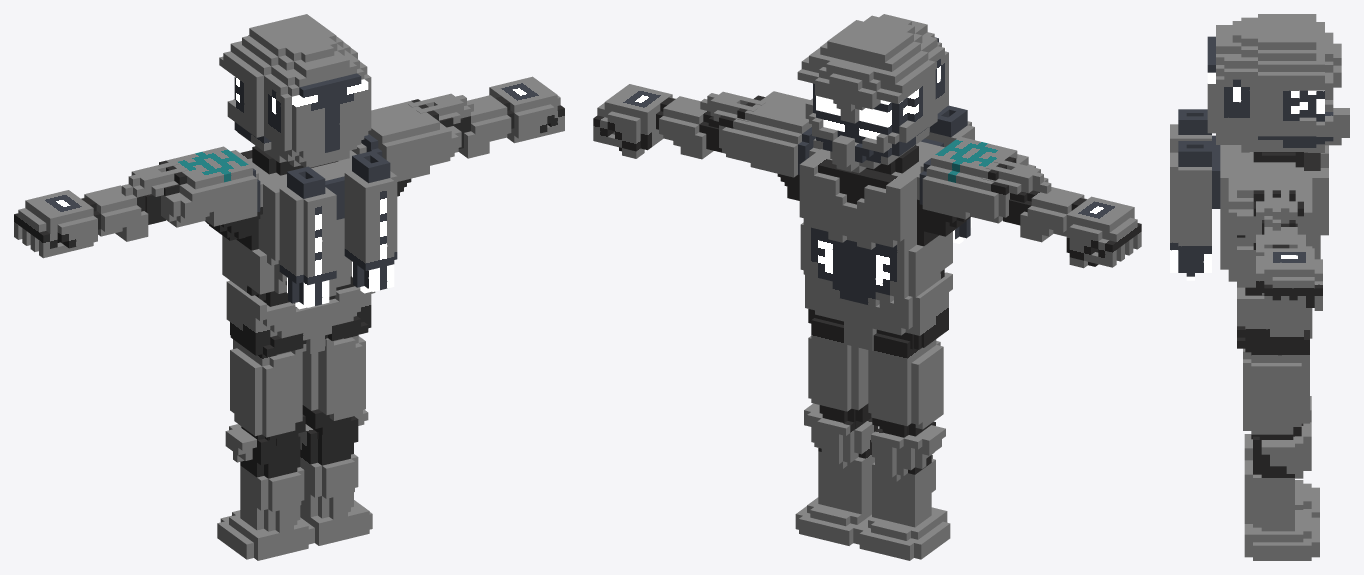
Rendered from Player.dae.
3 renders of one model, left to right at view 1: azimuth 30°, elevation 25°; view 2: azimuth 150°, elevation 25°; view 3: azimuth 270°, elevation 25°, orthographic.
Parts seen in each view (by area): view 1: Torso-local, Head-local, RFoot-local, RWrist-local, Waist-local, RArm-local, LFoot-local, LWrist-local, RLeg-local, LArm-local, LLeg-local; view 2: Torso-local, Head-local, RFoot-local, RWrist-local, LWrist-local, LFoot-local, RLeg-local, RArm-local, LArm-local, Waist-local, LLeg-local; view 3: Head-local, Torso-local, LFoot-local, LWrist-local, LLeg-local, LArm-local, Waist-local, RFoot-local.
Part boxes in pixels (bbox=[...]): Torso-local: bbox=[209, 145, 397, 309]; Head-local: bbox=[219, 14, 371, 167]; RFoot-local: bbox=[217, 424, 311, 560]; RWrist-local: bbox=[14, 161, 187, 258]; Waist-local: bbox=[226, 276, 375, 356]; RArm-local: bbox=[145, 146, 262, 239]; LFoot-local: bbox=[298, 409, 372, 545]; LWrist-local: bbox=[408, 76, 564, 158]; RLeg-local: bbox=[230, 322, 305, 445]; LArm-local: bbox=[351, 99, 463, 196]; LLeg-local: bbox=[302, 335, 365, 439]; Torso-local: bbox=[787, 105, 974, 306]; Head-local: bbox=[797, 14, 948, 173]; RFoot-local: bbox=[856, 419, 950, 560]; RWrist-local: bbox=[981, 159, 1141, 268]; LWrist-local: bbox=[593, 84, 765, 159]; LFoot-local: bbox=[795, 403, 878, 545]; RLeg-local: bbox=[868, 333, 943, 437]; RArm-local: bbox=[917, 136, 1035, 228]; LArm-local: bbox=[708, 91, 820, 192]; Waist-local: bbox=[805, 272, 952, 350]; LLeg-local: bbox=[808, 309, 871, 429]; Head-local: bbox=[1207, 14, 1349, 152]; Torso-local: bbox=[1170, 109, 1328, 295]; LFoot-local: bbox=[1244, 422, 1319, 560]; LWrist-local: bbox=[1256, 187, 1322, 310]; LLeg-local: bbox=[1243, 330, 1309, 439]; LArm-local: bbox=[1228, 162, 1312, 242]; Waist-local: bbox=[1237, 287, 1312, 352]; RFoot-local: bbox=[1244, 396, 1319, 517].
Size of the model in its own units: 72.25 by 66.19 by 21.5.
